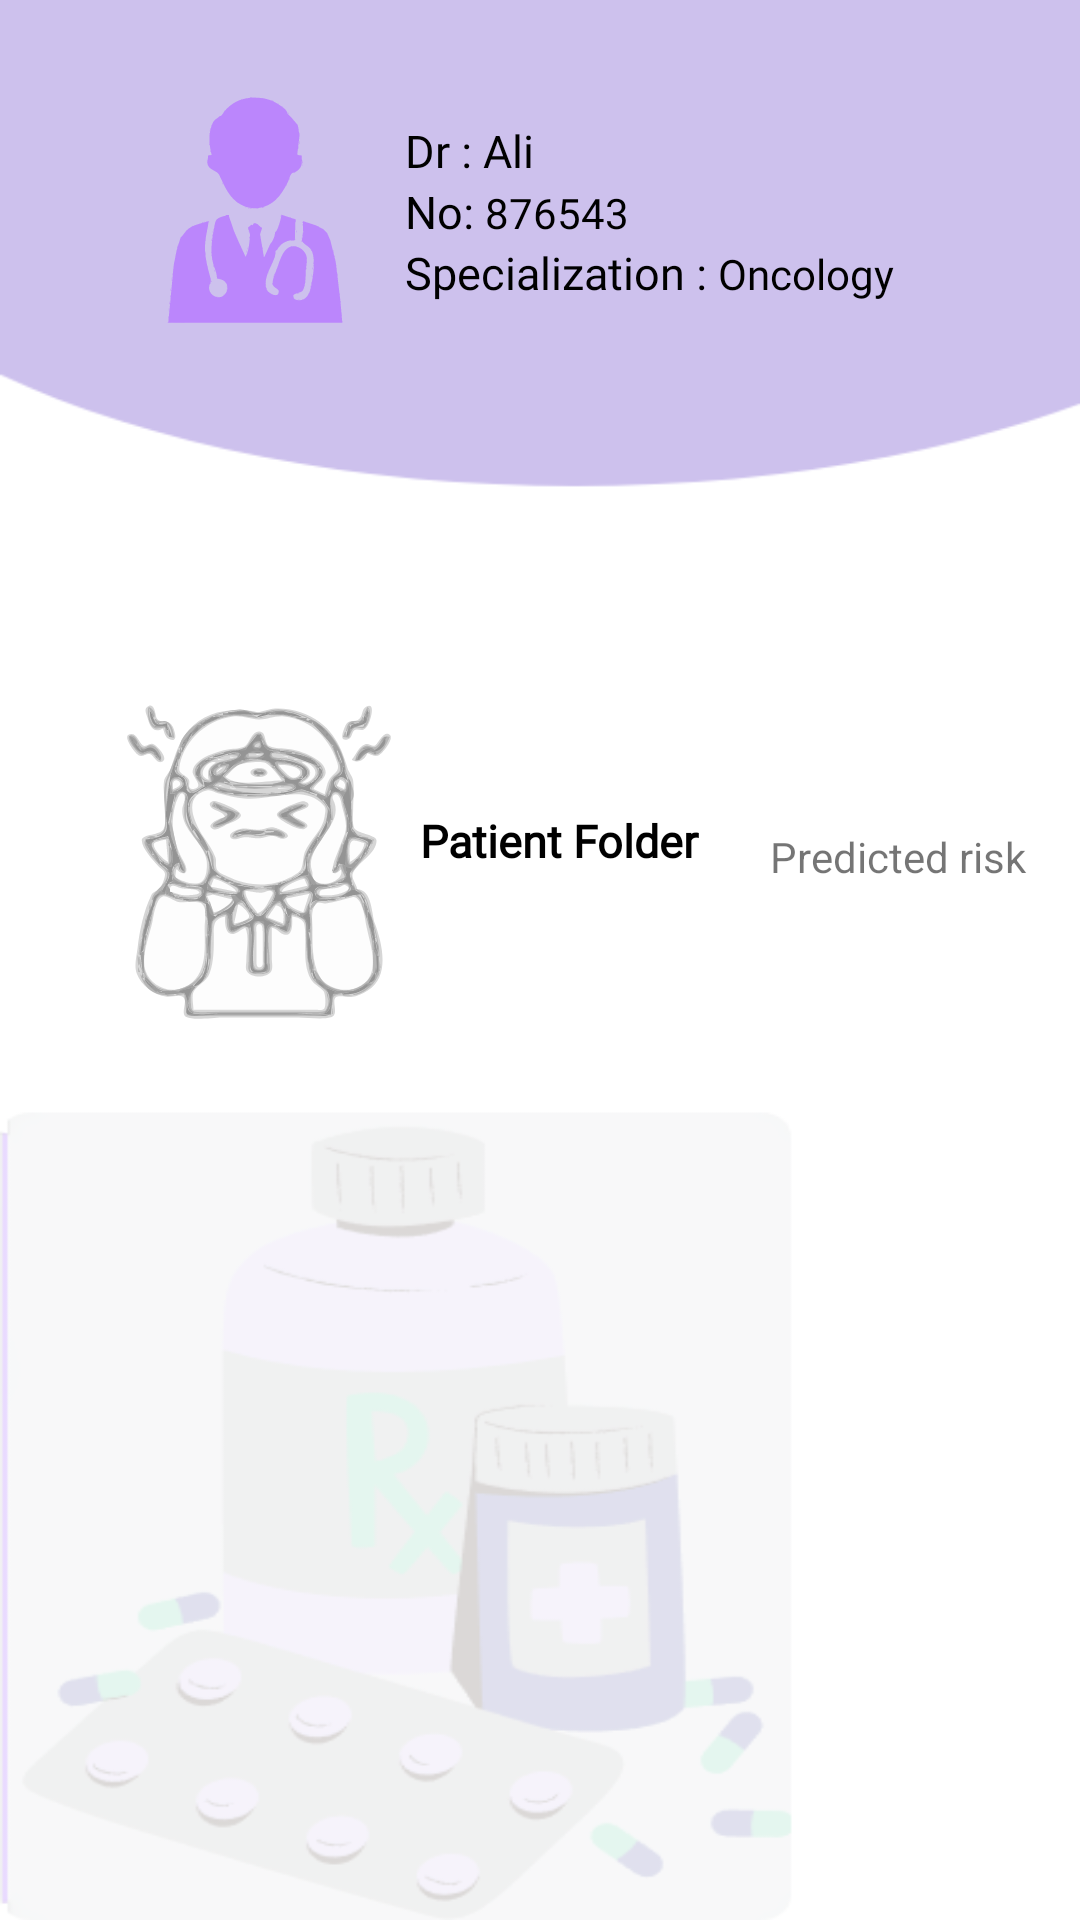

Point at icon controls on the screen. Image size 1080px×1920px, points as point (x, y).
symptoms: point (259, 862)
